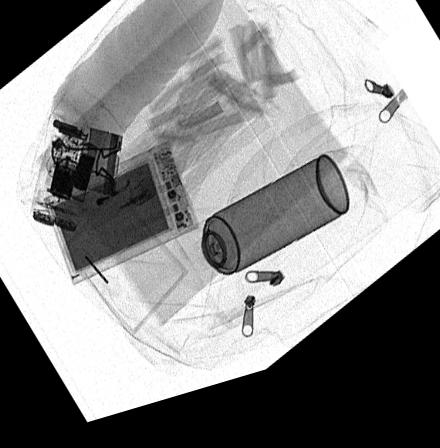Lighter: (53, 170, 157, 244)
Powerbank: (41, 152, 197, 289)
Sprayer: (170, 172, 350, 305)
